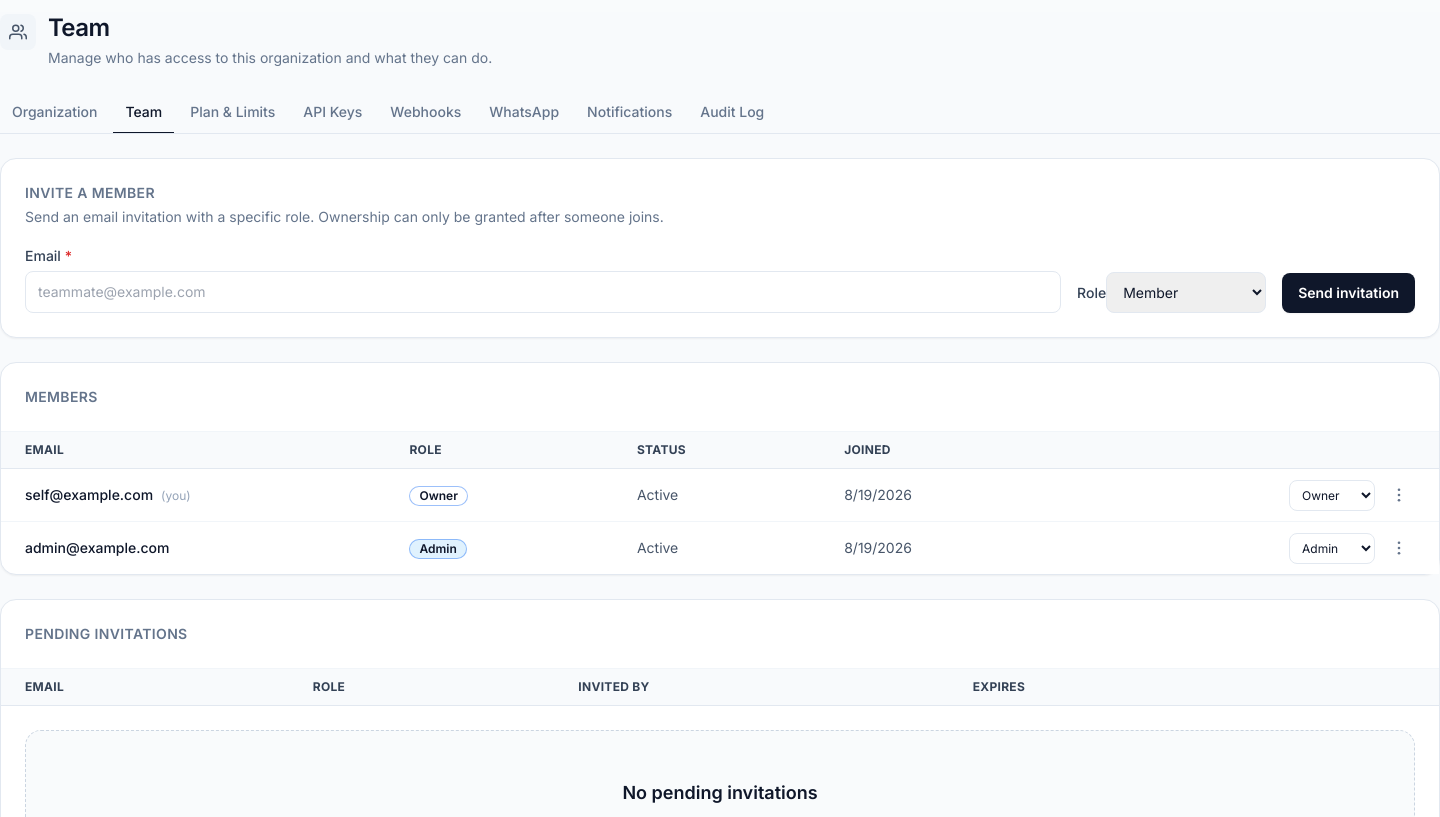
Scenario: Team page permission-gated rendering › owner sees the invite form, role select, and grant-ownership button
Expected: the text "admin@example.com" is shown, [25,539,170,556]
Expected: the field is shown, [25,271,1061,313]
Step 1. Click the button named "More actions" in the row of "admin@example.com" → x=1399, y=548, box [1383,532,1415,564]
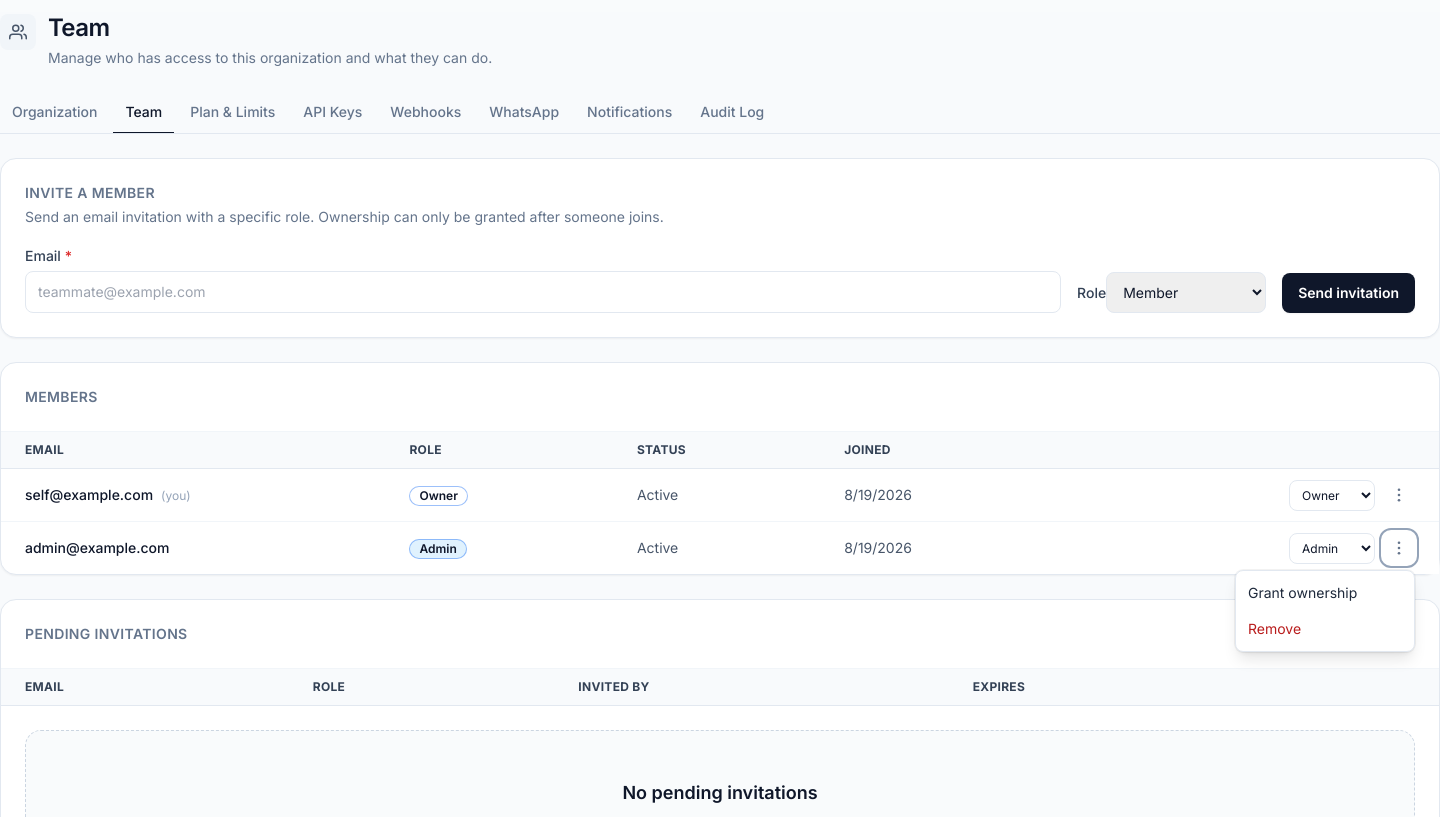
Result: the menu item "Grant ownership" is shown at [1236,575,1414,611]
